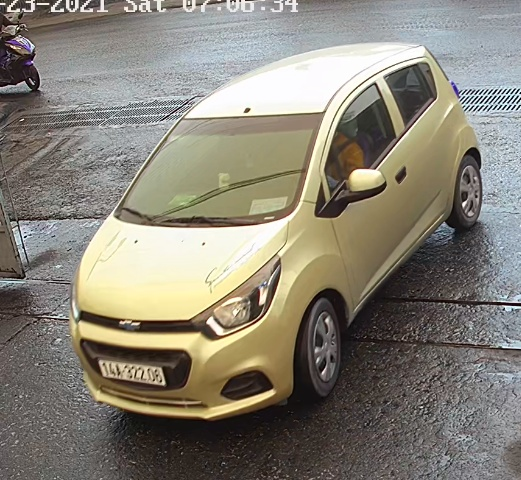vehicle plate: (91, 354, 171, 393)
